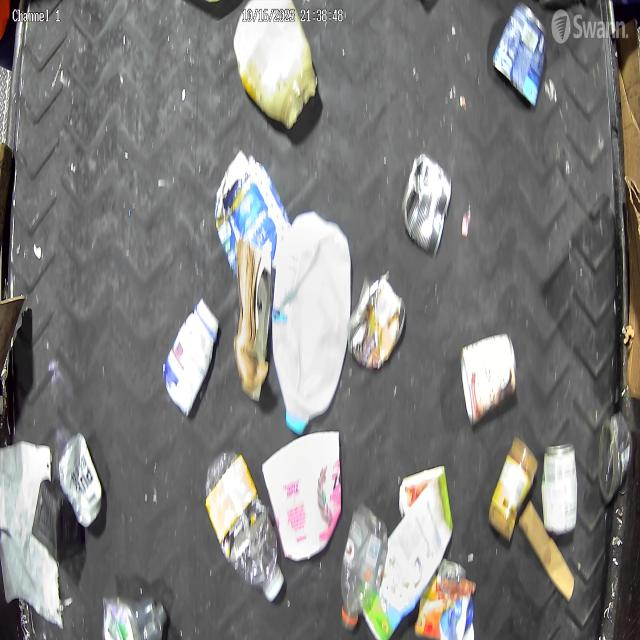can: (491, 2, 547, 108), (346, 274, 407, 371), (459, 331, 518, 430), (402, 152, 453, 257), (58, 432, 103, 529), (540, 440, 579, 537), (436, 559, 475, 640)
milk_jug: (270, 209, 352, 436)
plastic_bottle: (204, 447, 284, 603), (339, 502, 388, 632)
